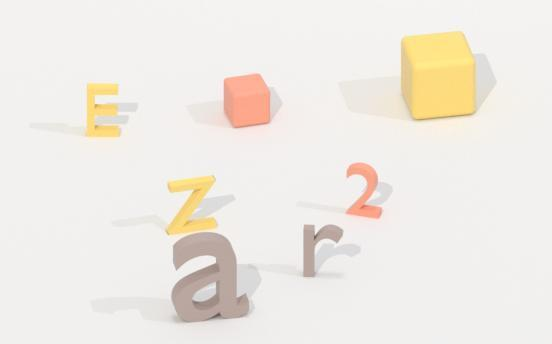chu_khoi: (171, 232, 249, 321), (166, 176, 217, 234), (303, 224, 342, 276), (86, 83, 119, 136)
lap_phuong: (401, 31, 475, 118), (224, 74, 270, 127)
so_khoi: (346, 162, 381, 217)
